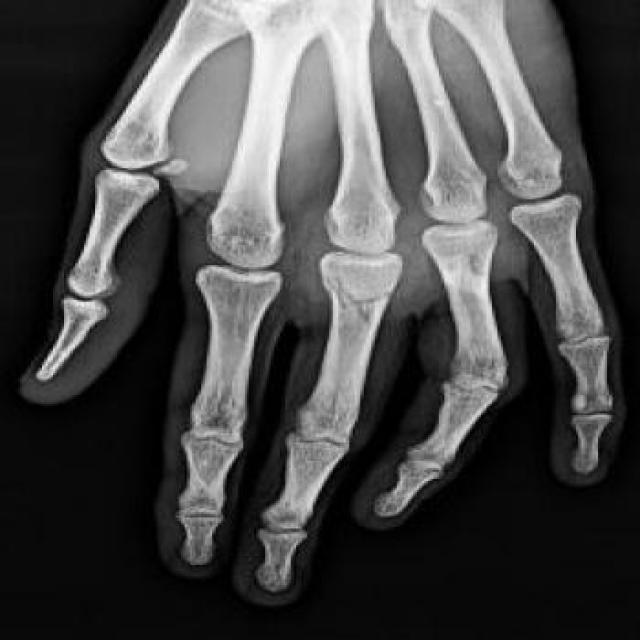Fracture: (317, 273, 405, 323)
